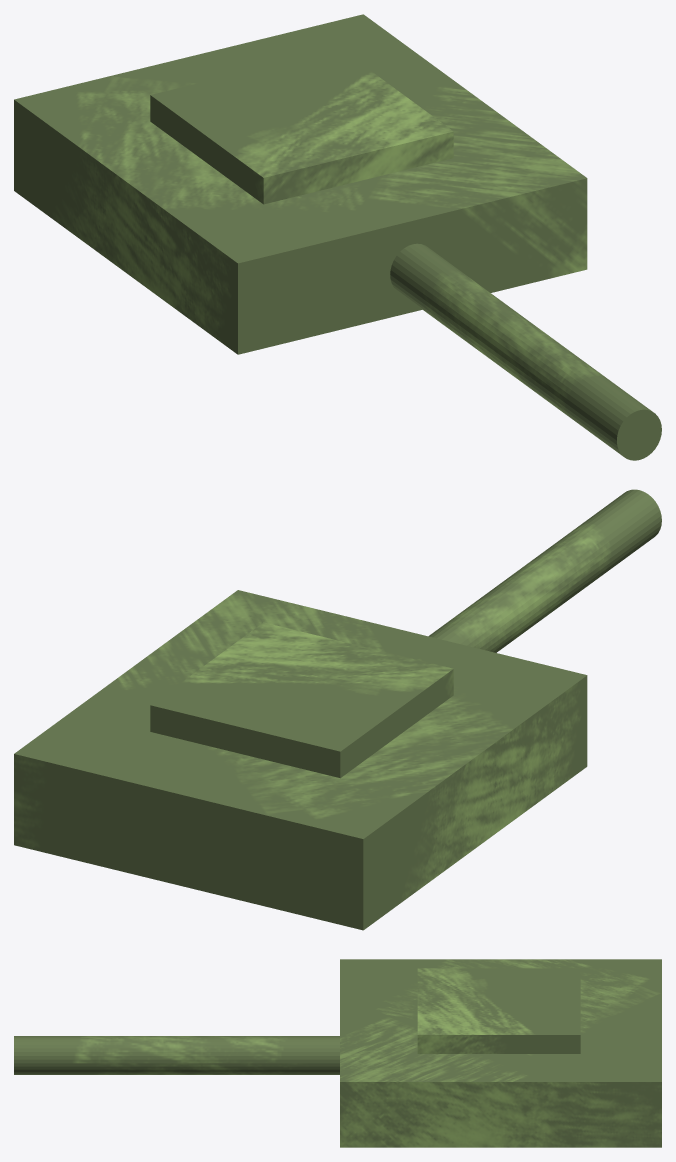
Rendered from playerAbove.obj.
The picture shows the model from 3 angles, top to bottom: view 1: azimuth 30°, elevation 25°; view 2: azimuth 150°, elevation 25°; view 3: azimuth 270°, elevation 25°; orthographic projection. The views are drawn at different scales.
Visible parts, largest first — view 1: ShootingStand; view 2: ShootingStand; view 3: ShootingStand.
Boxes of the visible parts, <box> form: ShootingStand: <box>14,14,661,460</box>; ShootingStand: <box>14,489,661,930</box>; ShootingStand: <box>14,959,661,1147</box>.
Size of the model in its own units: 1.55 by 0.499 by 3.46.
Materials: 1 (1 with a texture image).
